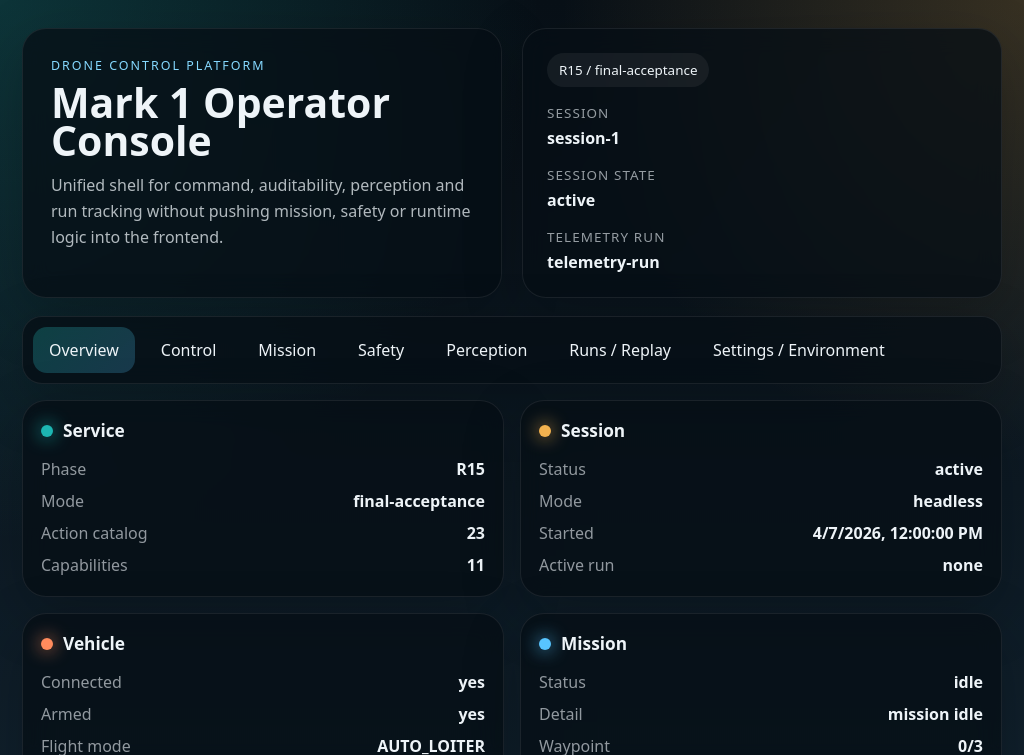
App › runs takeoff_land and correlates the run in the replay view
Click the button "Control" at (189, 350), box [145,327,232,373]
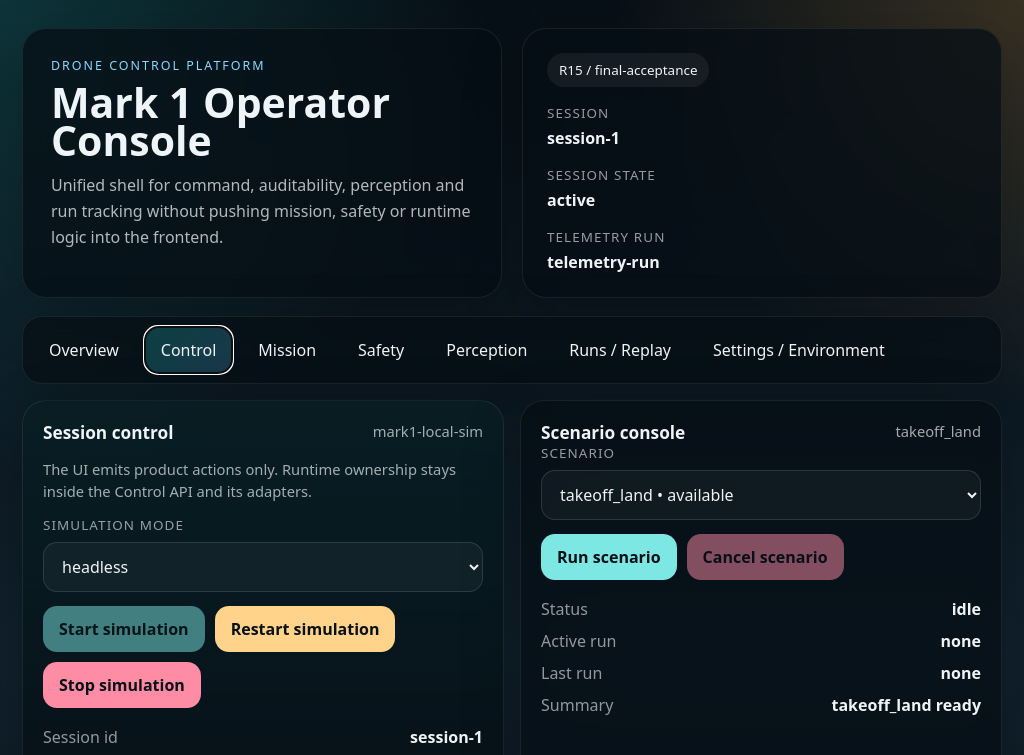
Click the button "Run scenario" at (609, 557), box [541,534,677,580]
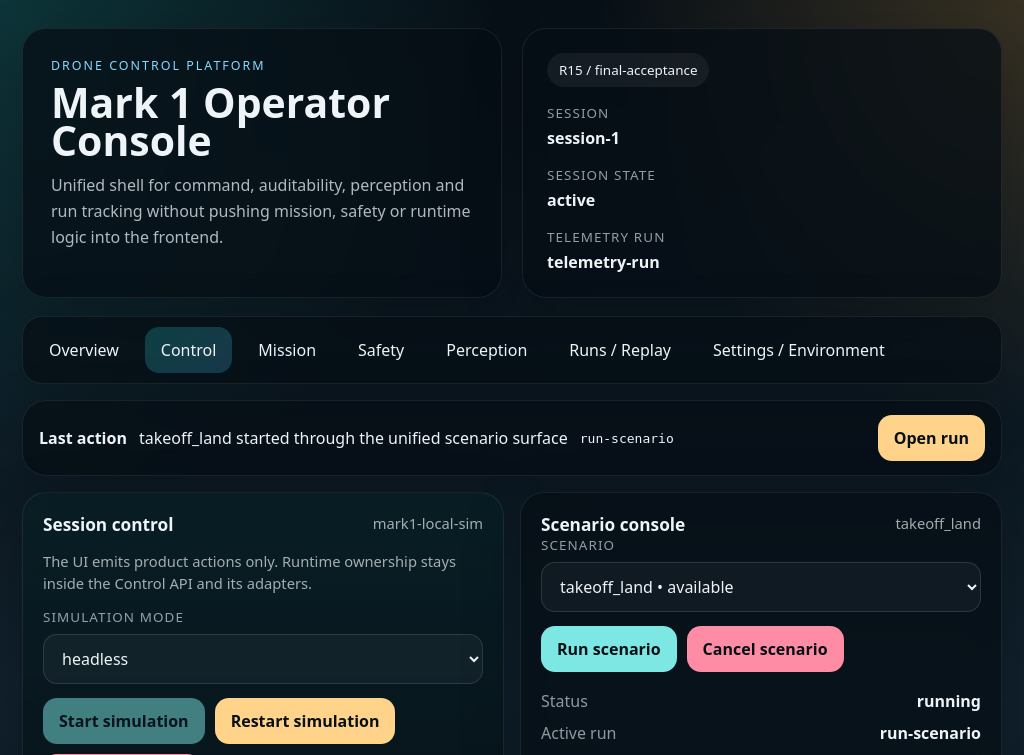
Expected: the text "takeoff_land started through the unified scenario surface" is shown, [139,427,568,449]
Click the button "Open run" at (931, 438), box [878,415,985,461]
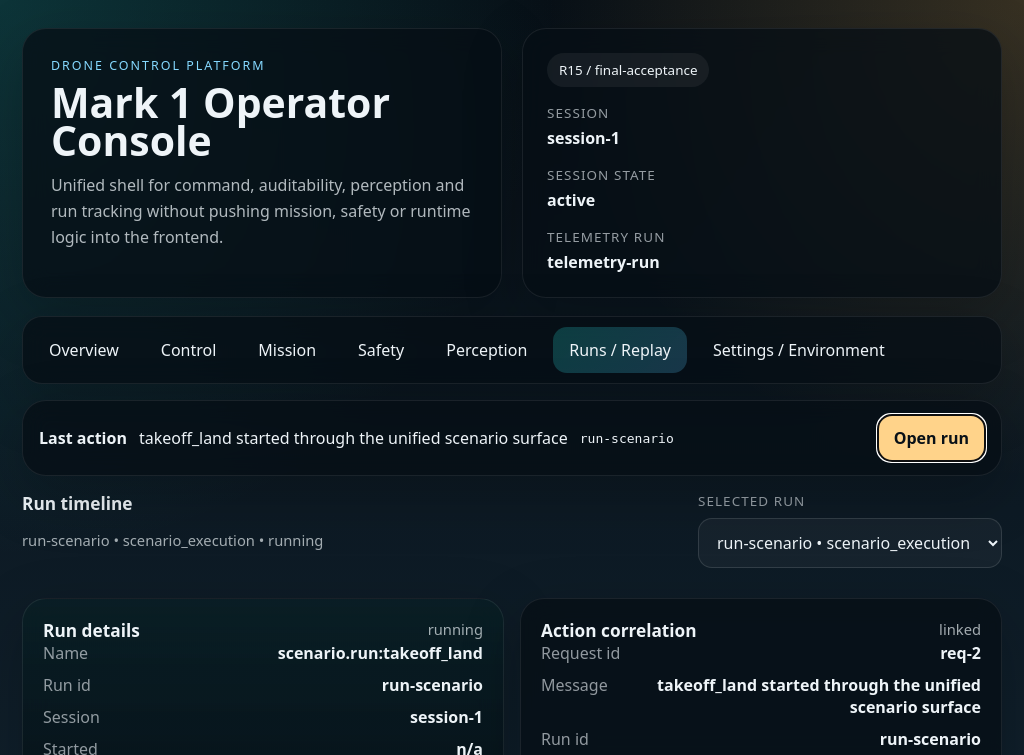
Expected: the text "run-scenario" in the row of "Last action" is shown, [580,430,674,446]
Expected: the heading "Action correlation" is shown, [541,619,697,642]
